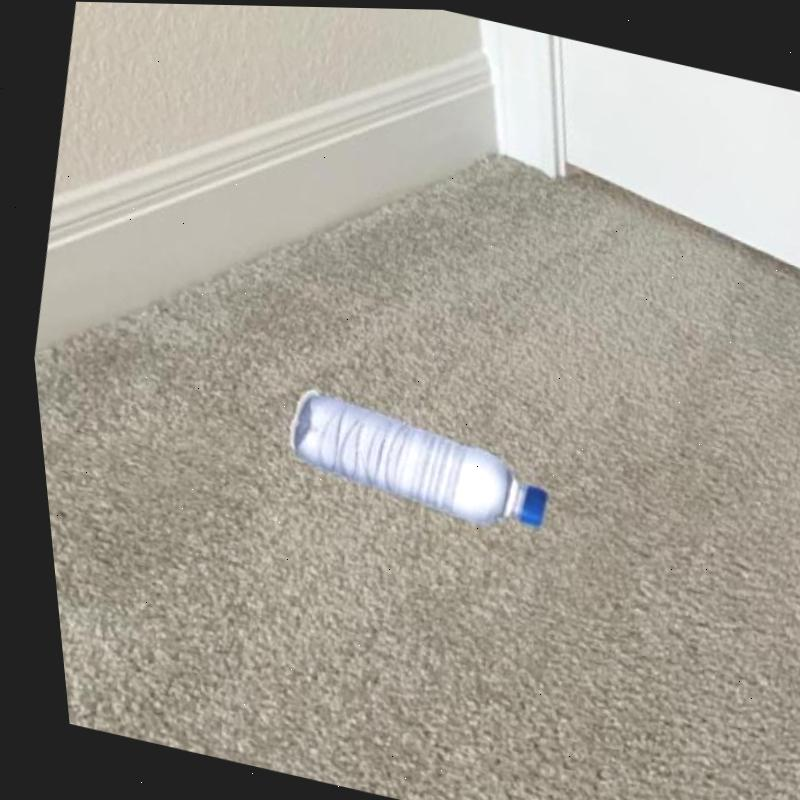botella: (273, 387, 553, 537)
